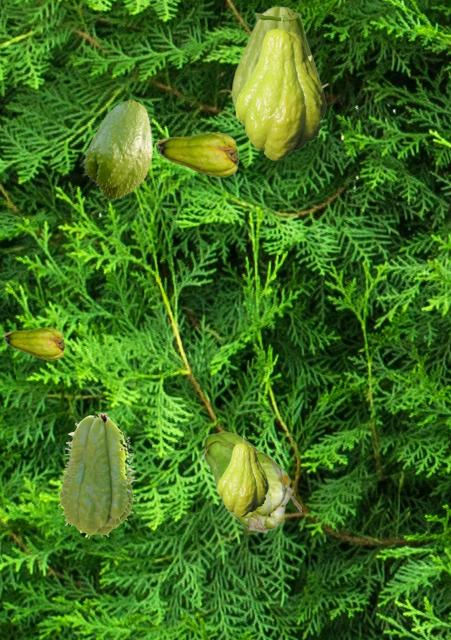sayote: (235, 14, 325, 159), (199, 431, 300, 532), (57, 412, 136, 538), (231, 6, 328, 108), (82, 100, 152, 199), (217, 435, 267, 516), (154, 132, 237, 176), (2, 327, 63, 359)
